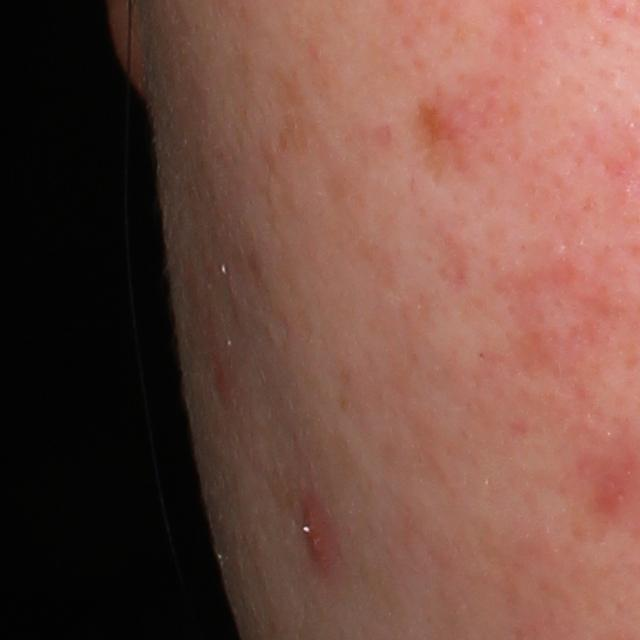papule: (292, 502, 343, 567)
